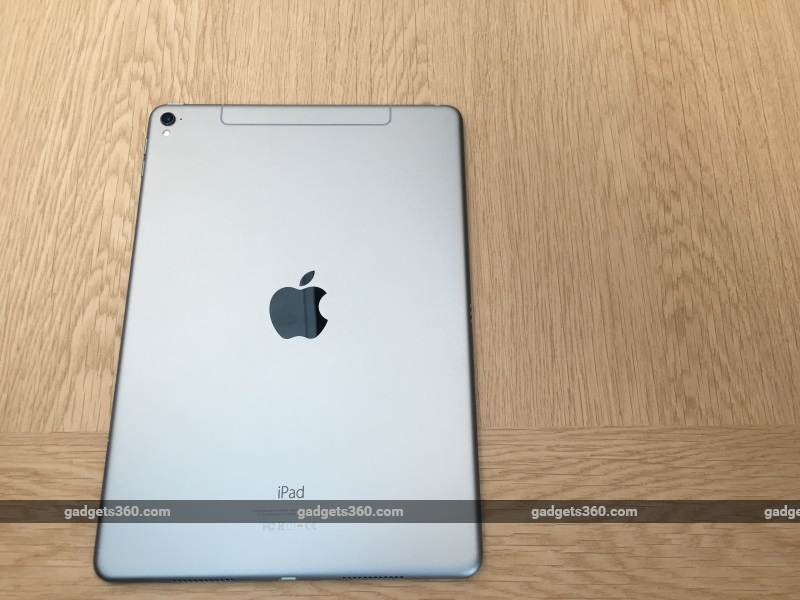apple: (253, 267, 367, 357)
